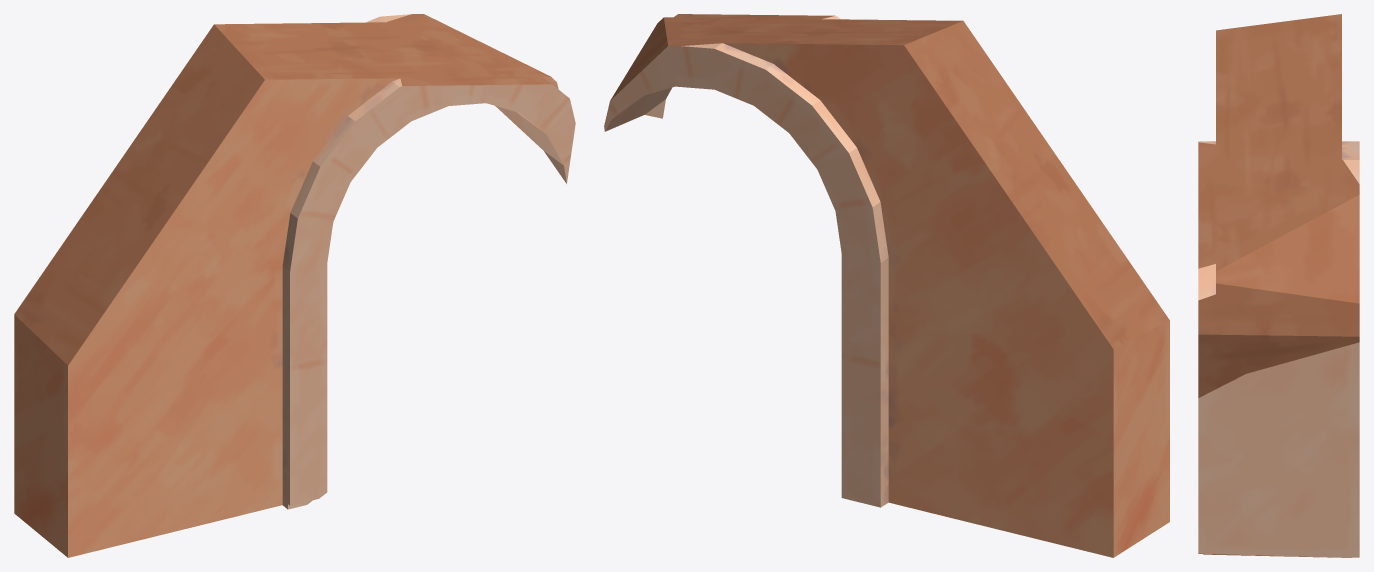
Rendered from wall2_window_s10.fbx.
3 renders of one model, left to right at view 1: azimuth 30°, elevation 25°; view 2: azimuth 150°, elevation 25°; view 3: azimuth 270°, elevation 25°, orthographic. The views are drawn at different scales.
Parts seen in each view (by area): view 1: wall2_window_s10; view 2: wall2_window_s10; view 3: wall2_window_s10.
Boxes of the visible parts, x1,y1,x2,y2 form: wall2_window_s10: (14,14,575,557); wall2_window_s10: (604,14,1169,557); wall2_window_s10: (1198,14,1359,557).
Bounding box in the file's own units: 5.36 × 4.57 × 1.28.
